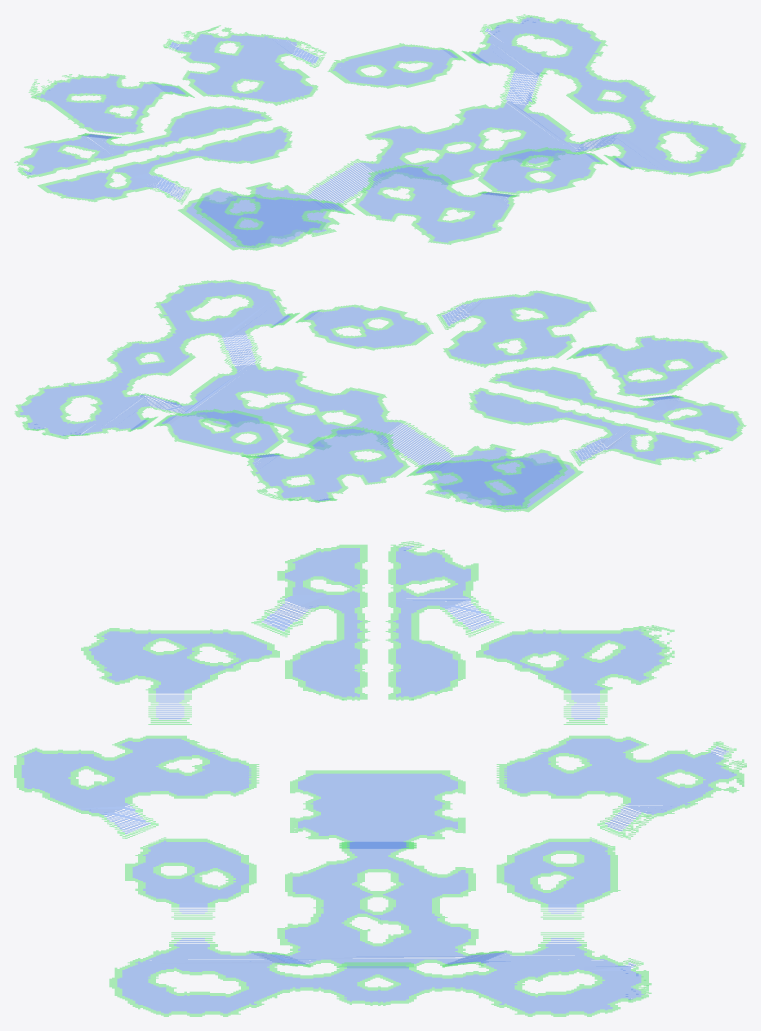
The model's file is bot_nav.glb.
3 renders of one model, top to bottom at view 1: azimuth 30°, elevation 25°; view 2: azimuth 150°, elevation 25°; view 3: azimuth 270°, elevation 25°, orthographic. The views are drawn at different scales.
Parts seen in each view (by area): view 1: bot_nav_vehicle, bot_nav_robot; view 2: bot_nav_vehicle, bot_nav_robot; view 3: bot_nav_vehicle, bot_nav_robot.
Boxes of the visible parts, x1,y1,x2,y2 form: bot_nav_vehicle: (22, 17, 740, 248); bot_nav_robot: (14, 14, 746, 250); bot_nav_vehicle: (19, 281, 740, 509); bot_nav_robot: (14, 279, 746, 512); bot_nav_vehicle: (21, 546, 736, 1013); bot_nav_robot: (14, 541, 746, 1016).
Bounding box in the file's own units: 368 × 51.24 × 284.
